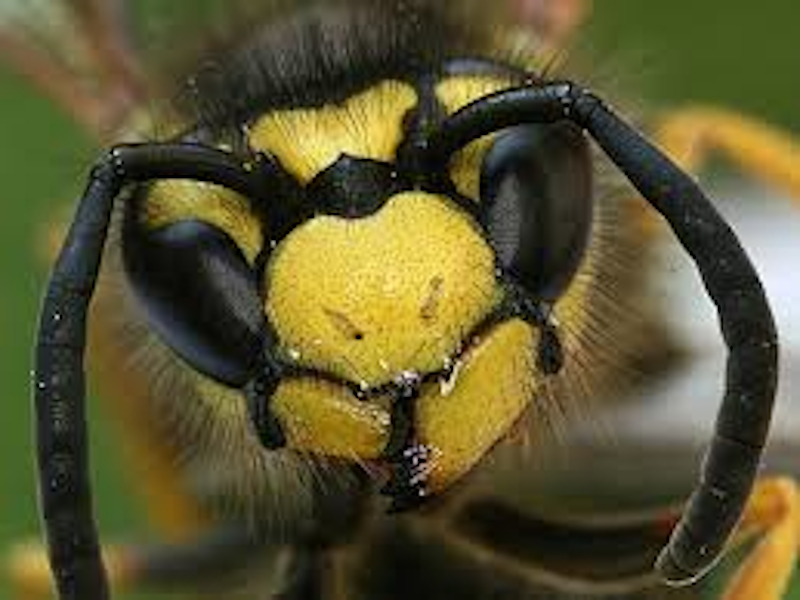chax: (19, 11, 776, 600)
